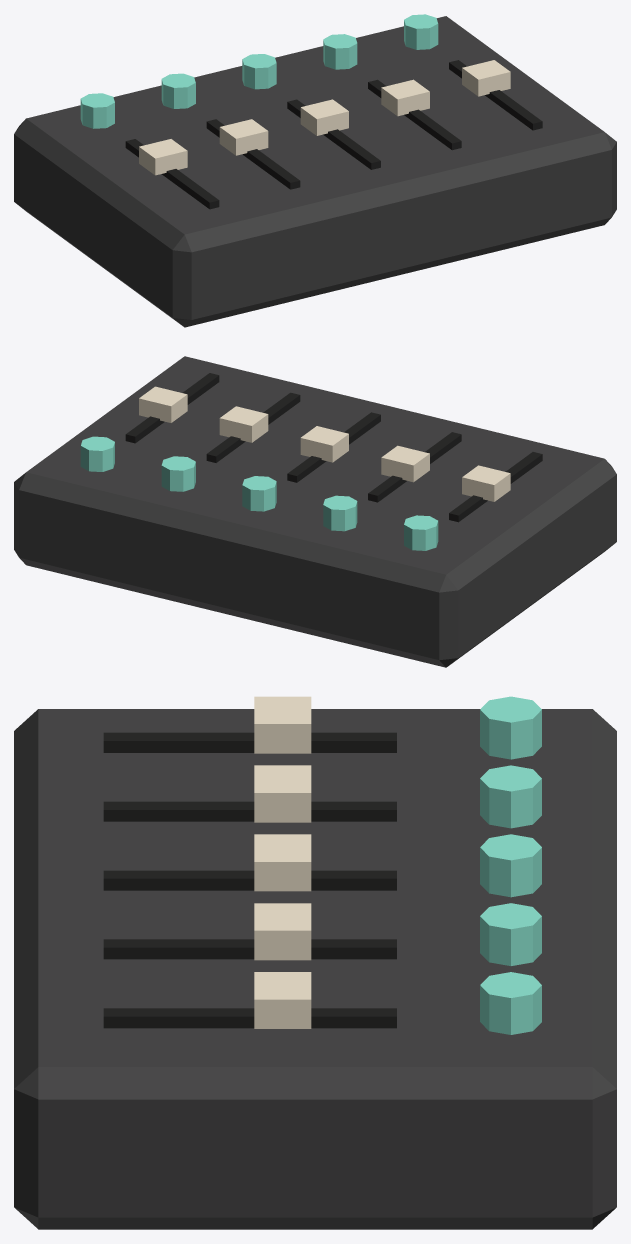
3 renders of one model, top to bottom at view 1: azimuth 30°, elevation 25°; view 2: azimuth 150°, elevation 25°; view 3: azimuth 270°, elevation 25°, orthographic. The views are drawn at different scales.
Visible parts, largest first — view 1: Audio console, Fader.001, Fader.003, Fader.004, Fader, Fader.002, Knob.003, Knob.004, Knob, Knob.002, Knob.001, Fader rail (+4 smaller); view 2: Audio console, Fader.003, Fader, Fader.001, Fader.002, Fader.004, Knob.003, Knob.002, Knob, Knob.004, Knob.001, Fader rail.004 (+4 smaller); view 3: Audio console, Fader rail, Fader rail.001, Fader rail.002, Fader rail.003, Fader rail.004, Knob.004, Knob.003, Knob.002, Knob.001, Knob, Fader.001 (+4 smaller).
Part boxes in pixels (box(x1,y1,x2,y2)): Audio console: box(14, 16, 616, 327); Fader.001: box(219, 119, 268, 155); Fader.003: box(381, 79, 429, 116); Fader.004: box(462, 60, 510, 96); Fader: box(139, 139, 187, 175); Fader.002: box(300, 99, 348, 135); Knob.003: box(323, 34, 357, 69); Knob.004: box(404, 14, 438, 49); Knob: box(80, 93, 114, 128); Knob.002: box(242, 54, 276, 89); Knob.001: box(161, 73, 195, 108); Fader rail: box(125, 139, 219, 209); Audio console: box(14, 356, 616, 667); Fader.003: box(219, 406, 268, 442); Fader: box(462, 465, 510, 501); Fader.001: box(381, 445, 429, 482); Fader.002: box(300, 426, 348, 462); Fader.004: box(139, 386, 187, 422); Knob.003: box(161, 456, 195, 491); Knob.002: box(242, 476, 276, 511); Knob: box(404, 515, 438, 550); Knob.004: box(80, 436, 114, 471); Knob.001: box(323, 495, 357, 531); Fader rail.004: box(125, 373, 219, 443); Audio console: box(14, 709, 616, 1229); Fader rail: box(103, 732, 396, 752); Fader rail.001: box(103, 801, 396, 821); Fader rail.002: box(103, 870, 396, 890); Fader rail.003: box(103, 939, 396, 959); Fader rail.004: box(103, 1008, 396, 1028); Knob.004: box(480, 972, 541, 1034); Knob.003: box(480, 903, 541, 965); Knob.002: box(480, 834, 541, 897); Knob.001: box(480, 765, 541, 828); Knob: box(480, 696, 541, 759); Fader.001: box(254, 765, 311, 822).
Size of the model in its own units: 55 by 13.75 by 37.
